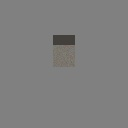supply_truck: (53, 35, 75, 67)
